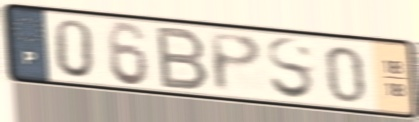0: (321, 43, 371, 105), (50, 18, 98, 80)
6: (104, 18, 153, 89)
B: (155, 24, 212, 92)
P: (205, 30, 266, 96)
S: (264, 35, 318, 103)
